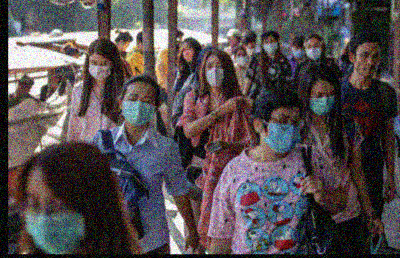with_mask: (23, 188, 88, 251), (263, 112, 302, 154), (121, 91, 156, 126), (309, 89, 336, 116), (88, 58, 111, 81), (205, 60, 224, 87), (305, 42, 322, 60), (182, 43, 195, 62), (264, 38, 278, 54), (235, 52, 248, 66), (292, 45, 305, 58), (246, 44, 256, 56)
without_mask: (354, 49, 380, 77)
